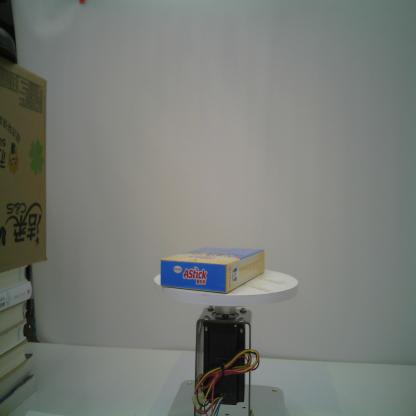Dessert: (158, 244, 268, 297)
